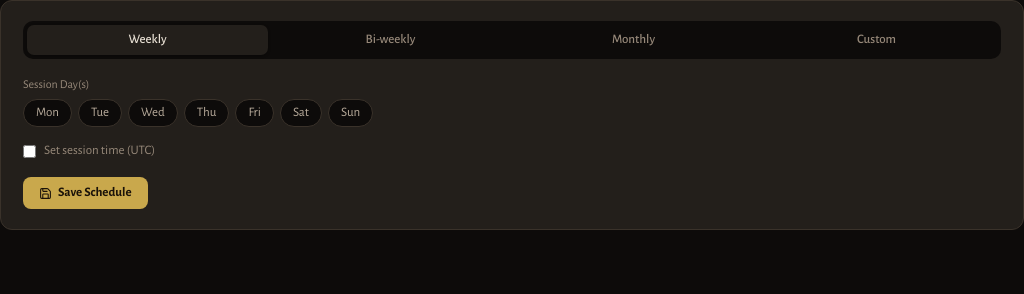
Test: ScheduleEditor › shows time input after checking the time checkbox
Step 1. Click the checkbox → (30, 151), box left=23, top=144, right=36, bottom=158
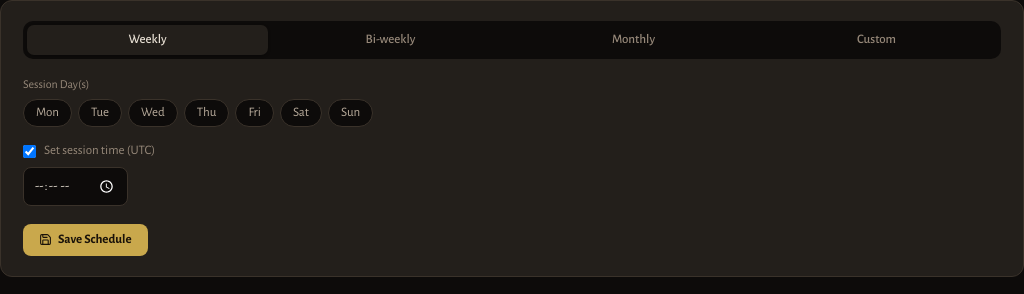
expect the time field named "Set session time (UTC)" is shown: met, box left=23, top=167, right=128, bottom=206
